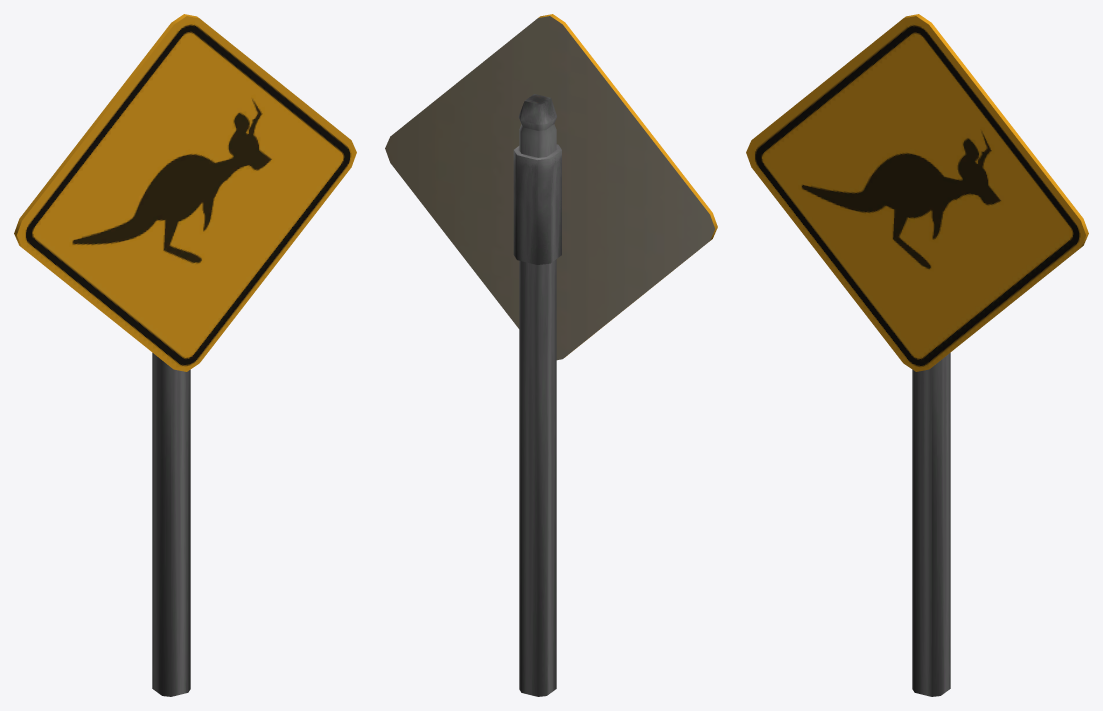
Rendered from JackarooSignHand.fbx.
3 views of the same model, side by side, from view 1: azimuth 30°, elevation 25°; view 2: azimuth 150°, elevation 25°; view 3: azimuth 330°, elevation 25° (orthographic). The views are drawn at different scales.
Visible parts, largest first — view 1: Sign (1), OldRoadSign (1); view 2: Sign (1), OldRoadSign (1); view 3: Sign (1), OldRoadSign (1).
Part boxes in pixels (x1,y1,x2,y2): Sign (1): [14, 14, 356, 371]; OldRoadSign (1): [152, 353, 190, 696]; Sign (1): [385, 14, 717, 360]; OldRoadSign (1): [513, 94, 561, 696]; Sign (1): [746, 14, 1088, 371]; OldRoadSign (1): [912, 353, 950, 696].
Bounding box in the file's own units: 1.29 × 2.48 × 0.1729.
2 materials, 2 textured.
